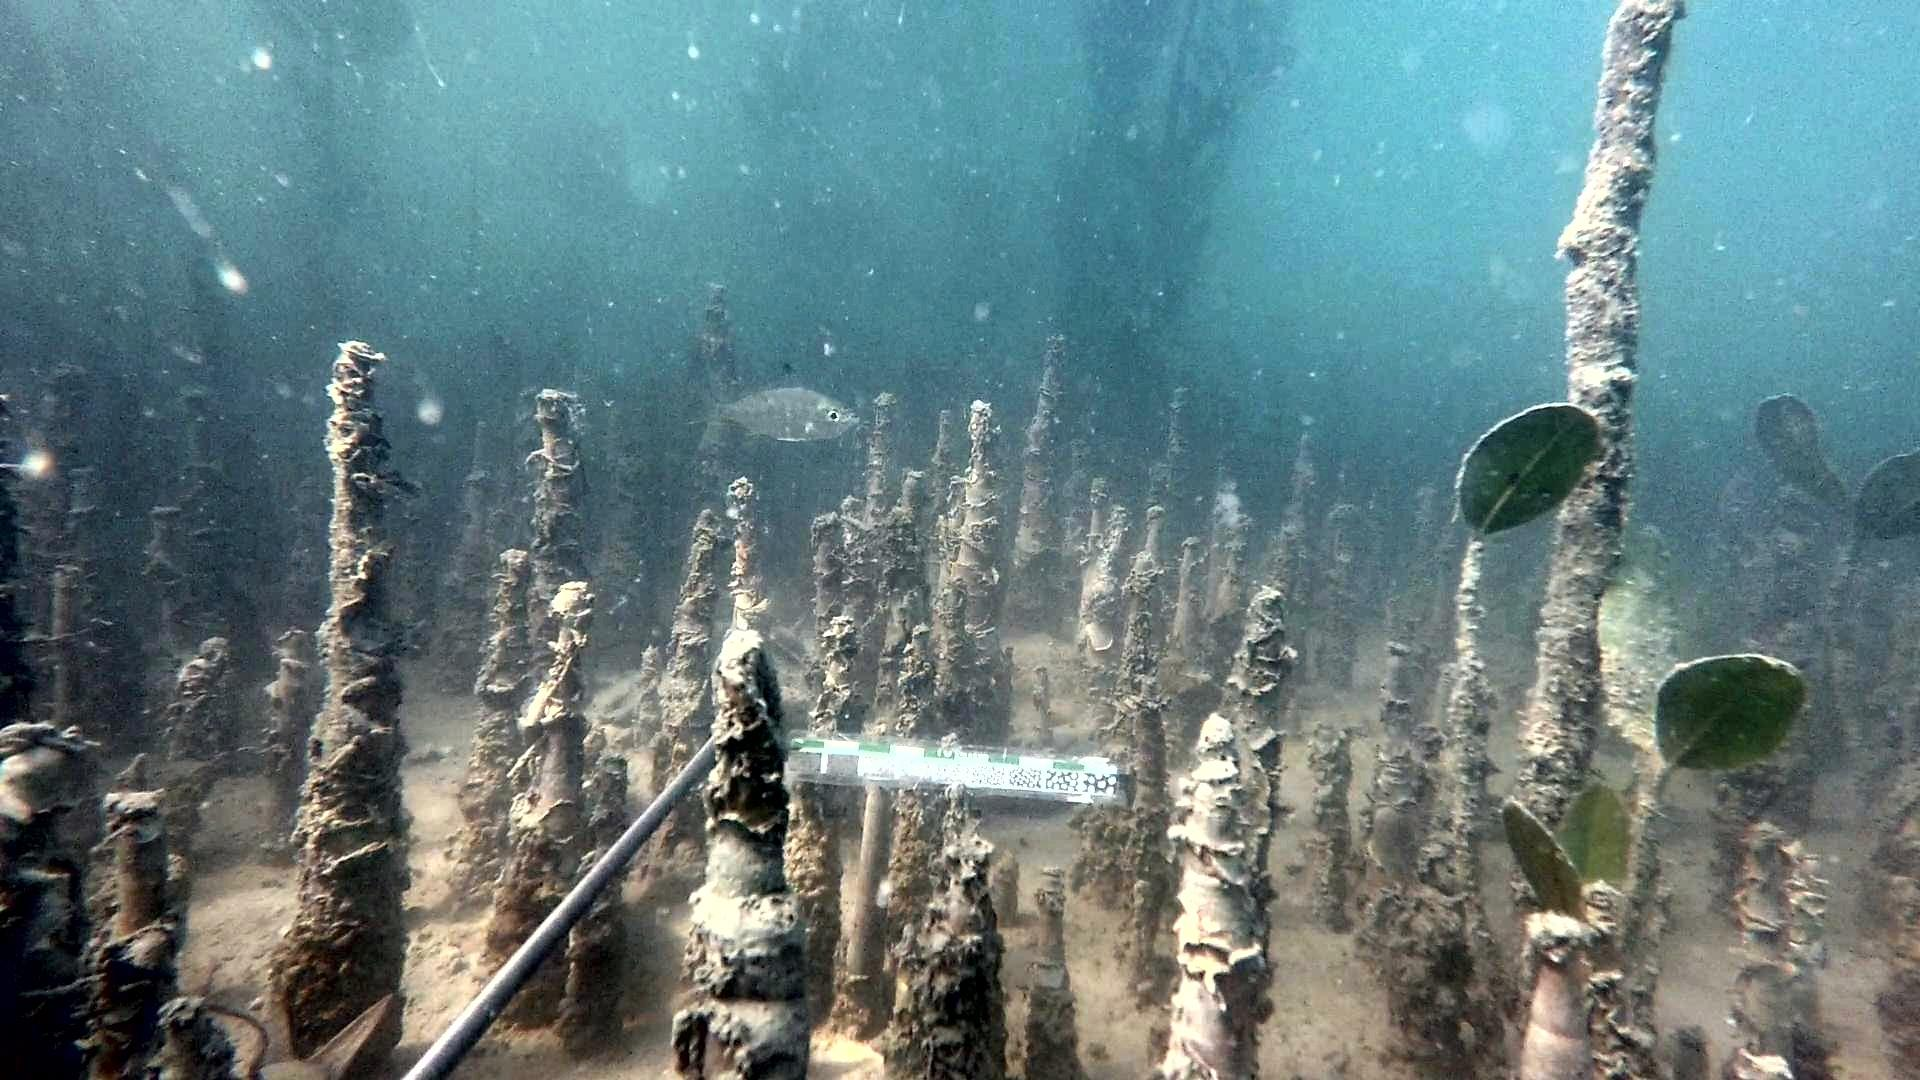gerres: (690, 360, 862, 444)
